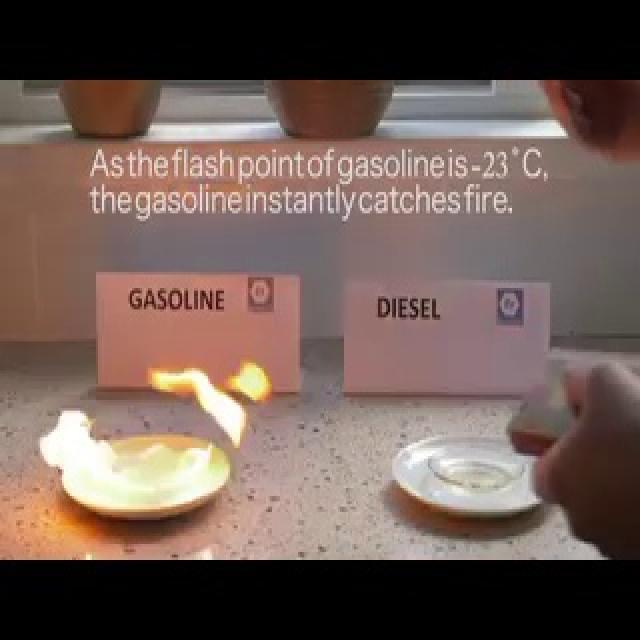fire: (36, 400, 220, 510), (148, 358, 250, 453), (228, 358, 275, 408)
